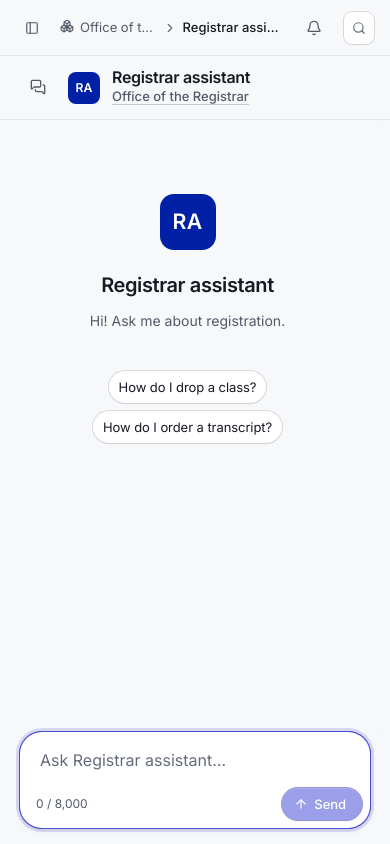
Scenario: chat page › shows the welcome and starter questions with no axe violations
expect the heading "Registrar assistant" is shown: met, box [112, 67, 250, 87]
expect the text "Hi! Ask me about registration." is shown: met, box [90, 312, 285, 330]
// Narrow screens open the list in a sheet.
Click the button named "Show conversations" at (38, 87), box [20, 69, 56, 105]
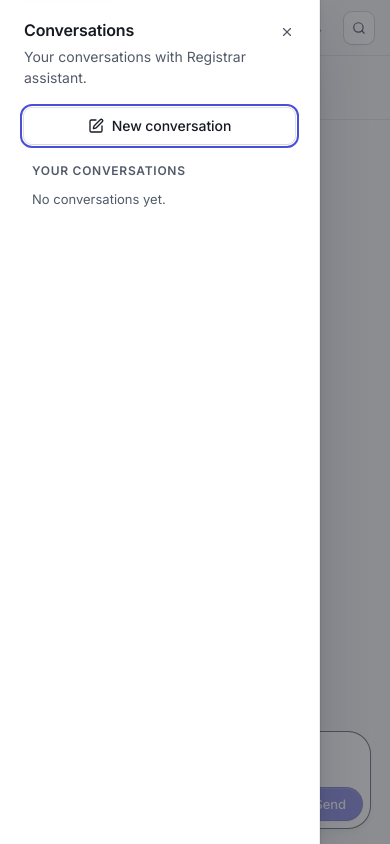
expect the button "New conversation" is shown: met, box [24, 108, 295, 144]
